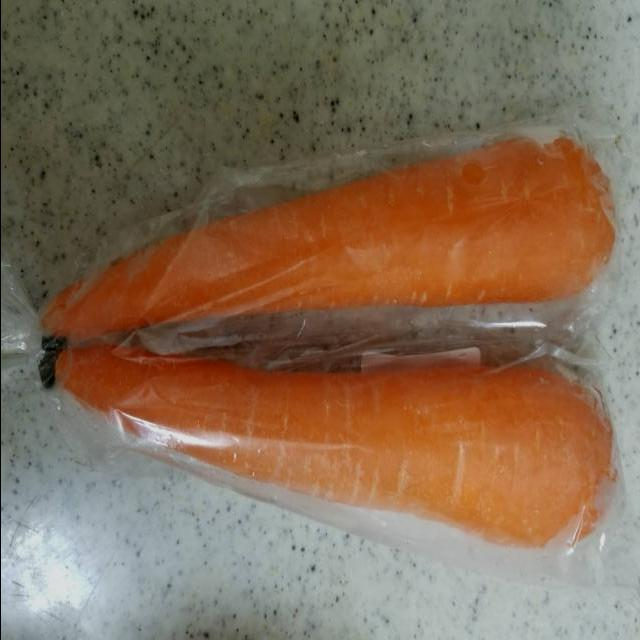carrot: (41, 136, 613, 348), (31, 355, 617, 548)
